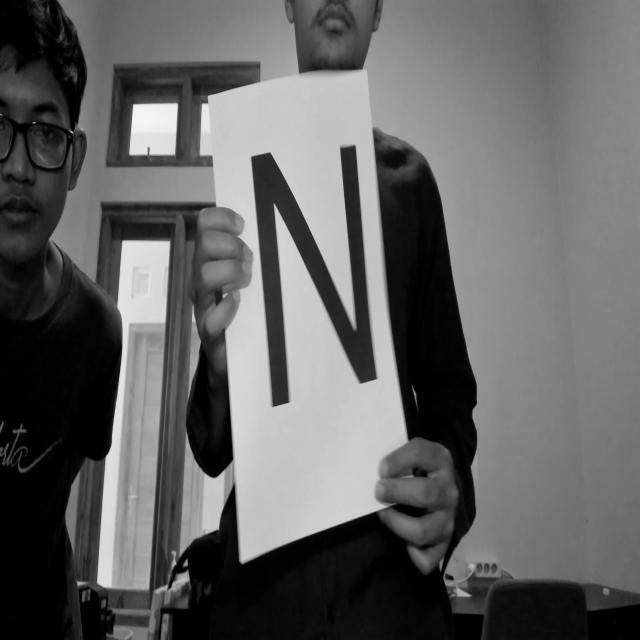n: (232, 141, 382, 428)
